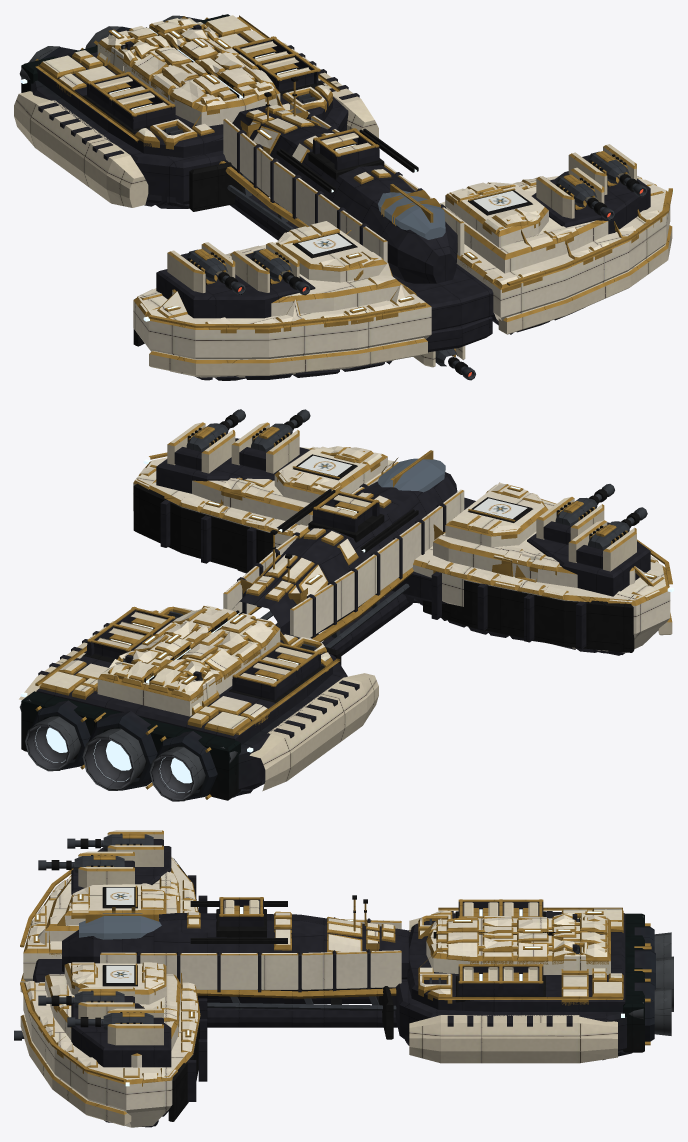
File: europa-schiff3.glb
3 views of the same model, one above another, from view 1: azimuth 30°, elevation 25°; view 2: azimuth 150°, elevation 25°; view 3: azimuth 270°, elevation 25° (orthographic). The views are drawn at different scales.
Parts seen in each view (by area): view 1: Hull_LOD0, Laser_01, Laser_02, Laser_04, Laser_03, Faction_Insignia_Left, Insignia_ClanSlot_Right, Laser_05; view 2: Hull_LOD0, EngineLight, Laser_02, Laser_01, Laser_03, Laser_04, Insignia_ClanSlot_Right, Faction_Insignia_Left; view 3: Hull_LOD0, Laser_01, Laser_04, Laser_03, Laser_02, Faction_Insignia_Left, Insignia_ClanSlot_Right.
Boxes of the visible parts, bbox=[...] form: Hull_LOD0: bbox=[14, 14, 673, 380]; Laser_01: bbox=[555, 174, 614, 220]; Laser_02: bbox=[588, 151, 647, 197]; Laser_04: bbox=[186, 249, 245, 295]; Laser_03: bbox=[251, 249, 310, 295]; Faction_Insignia_Left: bbox=[473, 191, 527, 211]; Insignia_ClanSlot_Right: bbox=[298, 233, 351, 254]; Laser_05: bbox=[435, 348, 475, 380]; Hull_LOD0: bbox=[19, 422, 673, 801]; EngineLight: bbox=[35, 727, 192, 792]; Laser_02: bbox=[186, 409, 245, 451]; Laser_01: bbox=[251, 409, 310, 451]; Laser_03: bbox=[555, 484, 614, 525]; Laser_04: bbox=[588, 507, 647, 549]; Insignia_ClanSlot_Right: bbox=[473, 498, 527, 518]; Faction_Insignia_Left: bbox=[298, 455, 351, 476]; Hull_LOD0: bbox=[20, 830, 673, 1127]; Laser_01: bbox=[38, 990, 124, 1008]; Laser_04: bbox=[67, 833, 153, 851]; Laser_03: bbox=[38, 855, 124, 872]; Laser_02: bbox=[67, 1012, 153, 1030]; Faction_Insignia_Left: bbox=[106, 965, 134, 982]; Insignia_ClanSlot_Right: bbox=[106, 887, 134, 904].
Size of the model in its own units: 45.75 by 13.85 by 54.36.
Materials: 6 (4 with a texture image).
